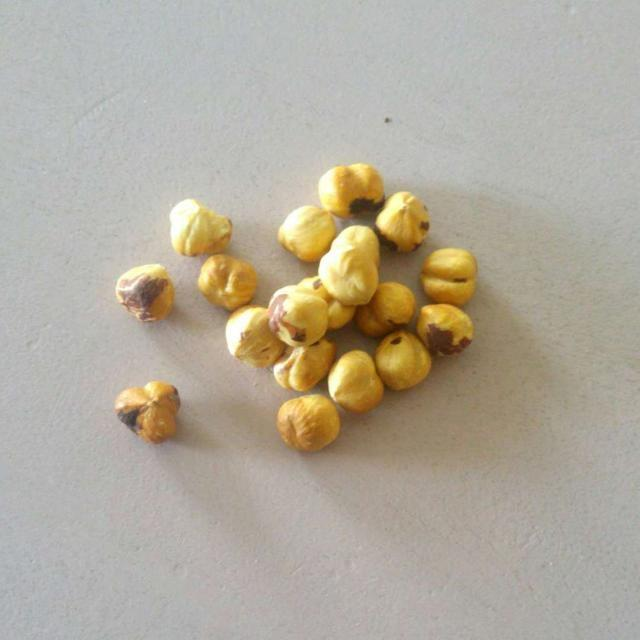hazelnut: (113, 154, 475, 441)
